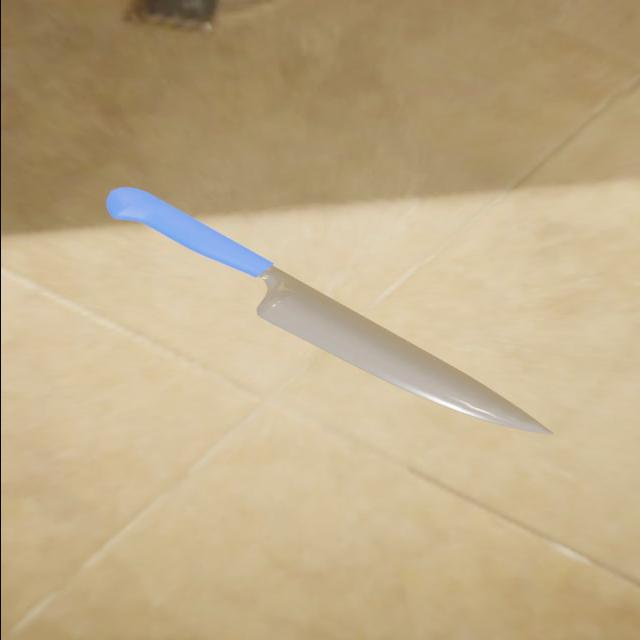knife: (104, 186, 273, 278)
